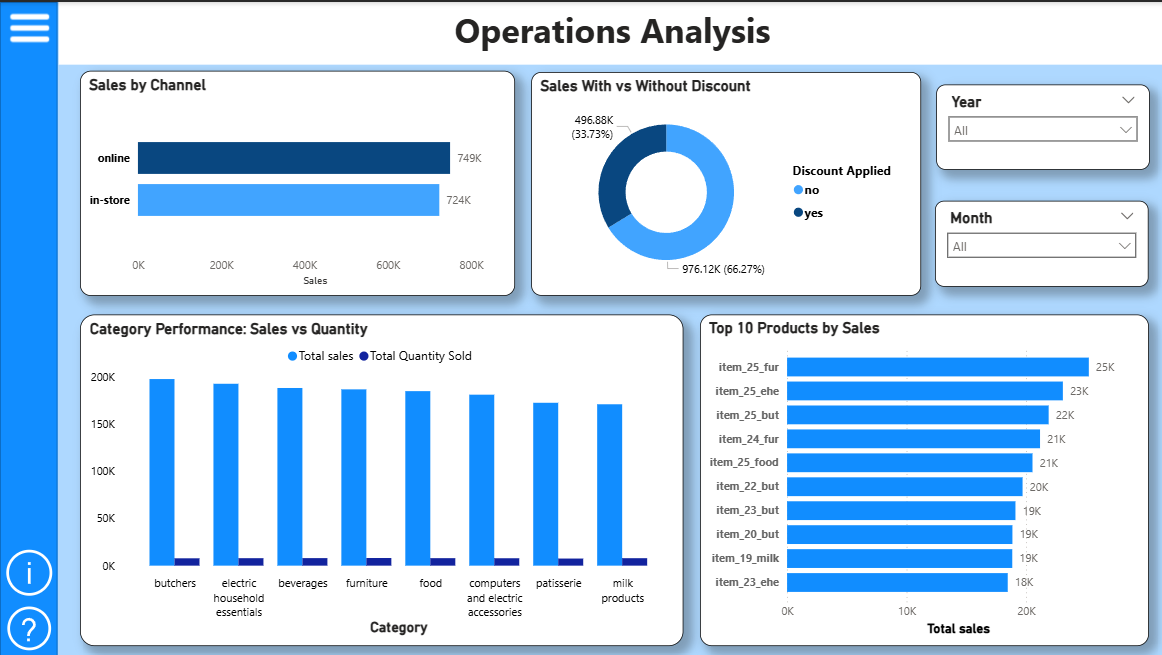

The page's visual inventory and layout, read from the dashboard file:
{"tool":"powerbi","page":{"name":"Page 2","canvas":[1280,720],"ordinal":1},"visuals":[{"type":"barChart","title":"Top 10 Products by Sales ","fields":{"Y":["retail_store_sales_clean.Total sales"],"Category":["retail_store_sales_clean.Item"]},"box":[768.4,343.1,492.6,363.6],"z":0},{"type":"actionButton","title":"Ques","box":[1.4,654.3,61.4,65.7],"z":0,"group":"g2"},{"type":"clusteredColumnChart","title":"Category Performance: Sales vs Quantity","fields":{"Category":["retail_store_sales_clean.Category"],"Y":["retail_store_sales_clean.Total sales","retail_store_sales_clean.Total Quantity Sold"]},"box":[87.8,343.1,662.8,363.6],"z":1000},{"type":"actionButton","title":"Info","box":[0,592.9,64.3,67.1],"z":1000,"group":"g2"},{"type":"actionButton","title":"Menu","box":[4.3,0,61.4,57.1],"z":2000,"group":"g2"},{"type":"donutChart","title":"Sales With vs Without Discount","fields":{"Category":["retail_store_sales_clean.Discount Applied"],"Y":["retail_store_sales_clean.Total sales"]},"box":[583.2,76.8,428.1,245.6],"z":2000},{"type":"barChart","title":"Sales by Channel","fields":{"Category":["retail_store_sales_clean.Location"],"Y":["retail_store_sales_clean.Total sales"]},"box":[87.8,75.5,477.5,247],"z":3000},{"type":"slicer","fields":{"Values":["retail_store_sales_clean.Transaction Date.Variation.Date Hierarchy.Year"]},"box":[1027.8,90.6,234.6,93.3],"z":4000},{"type":"slicer","fields":{"Values":["retail_store_sales_clean.Transaction Date.Variation.Date Hierarchy.Month"]},"box":[1026.4,218.2,234.6,94.7],"z":5000},{"type":"textbox","box":[64.5,0,1215.8,68.6],"z":6000},{"type":"group","id":"g1","title":"Group 1","box":[0,0,67.2,720.4],"z":7000},{"type":"shape","box":[0,0,63.1,720.4],"z":11000,"group":"g1"},{"type":"group","id":"g2","title":"Menu bar","box":[0,0,67.2,720.4],"z":12000,"group":"g1"}]}

Visuals, with their boxes in screenshot pixels (x1, y1, x2, y2), scaled from the page's 1280x720 canvas onto the 1162x655 screenshot:
"Top 10 Products by Sales " barChart: select_region(698, 312, 1145, 643)
"Ques" actionButton: select_region(1, 595, 57, 654)
"Category Performance: Sales vs Quantity" clusteredColumnChart: select_region(80, 312, 681, 643)
"Info" actionButton: select_region(0, 539, 58, 600)
"Menu" actionButton: select_region(4, 0, 60, 52)
"Sales With vs Without Discount" donutChart: select_region(529, 70, 918, 293)
"Sales by Channel" barChart: select_region(80, 69, 513, 293)
slicer - retail_store_sales_clean.Transaction Date.Variation.Date Hierarchy.Year: select_region(933, 82, 1146, 167)
slicer - retail_store_sales_clean.Transaction Date.Variation.Date Hierarchy.Month: select_region(932, 199, 1145, 285)
textbox: select_region(59, 0, 1161, 62)
"Group 1" group: select_region(0, 0, 61, 654)
shape: select_region(0, 0, 57, 654)
"Menu bar" group: select_region(0, 0, 61, 654)
